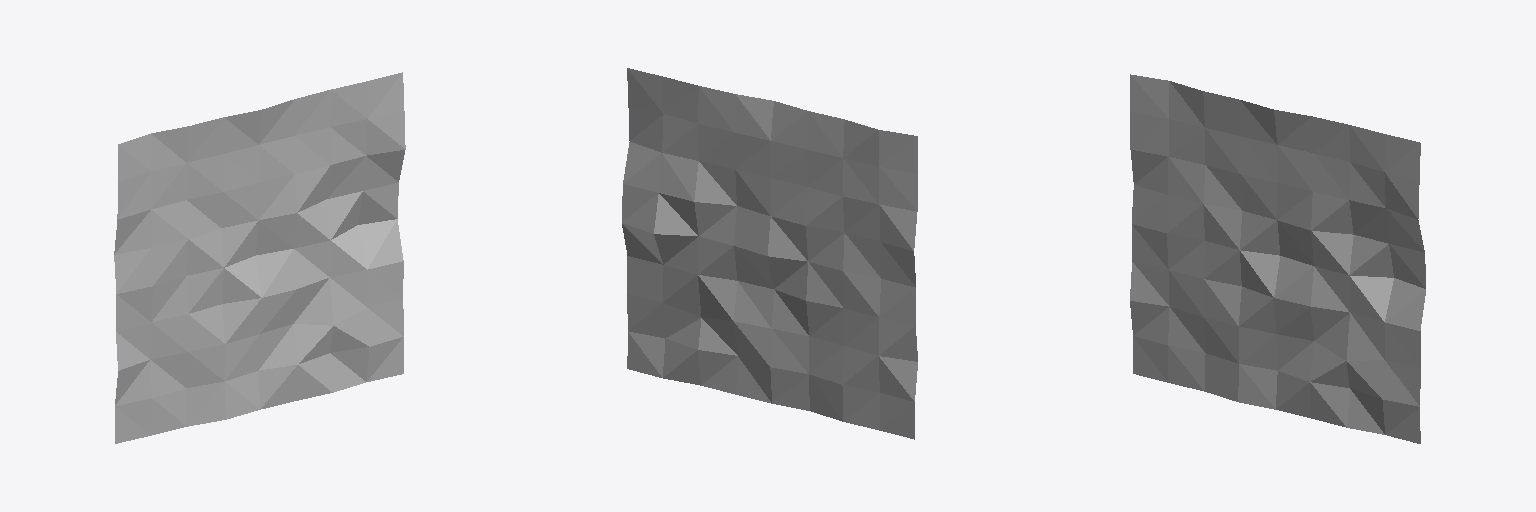
File: floor.obj
The picture shows the model from 3 angles: view 1: azimuth 30°, elevation 25°; view 2: azimuth 150°, elevation 25°; view 3: azimuth 330°, elevation 25°; orthographic projection.
Parts seen in each view (by area): view 1: Plane.010_Plane.001; view 2: Plane.010_Plane.001; view 3: Plane.010_Plane.001.
Boxes of the visible parts, x1,y1,x2,y2 form: Plane.010_Plane.001: [114, 72, 405, 443]; Plane.010_Plane.001: [622, 68, 917, 439]; Plane.010_Plane.001: [1130, 74, 1425, 443].
Bounding box in the file's own units: 8 × 8 × 0.5937.